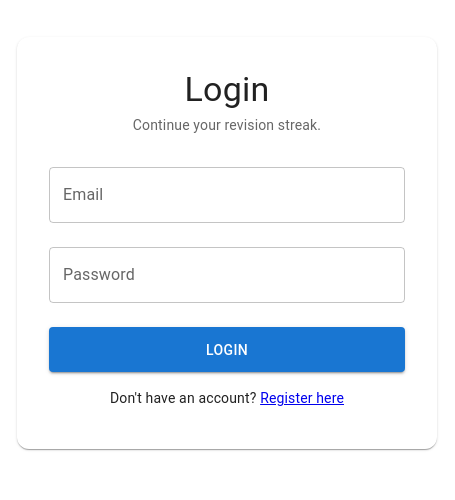
Test: Login page › shows validation error for invalid email
Type "invalid-email" into the field labelled "Email" at (227, 196), box [49,168,405,224]
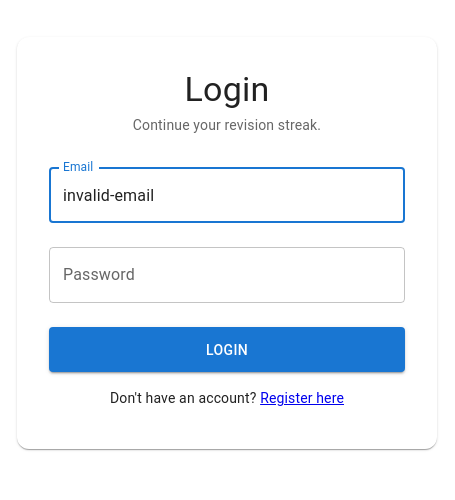
Type "password123" into the password field labelled "Password" at (227, 276), box [49,248,405,304]
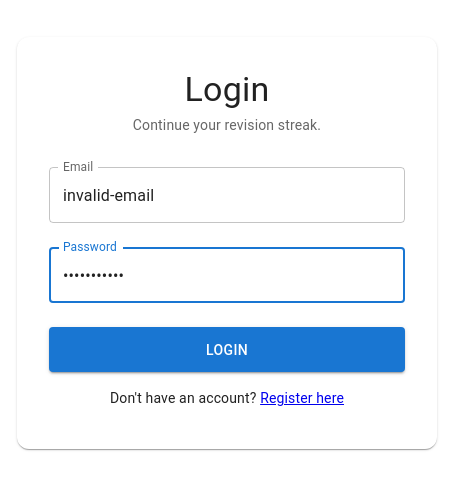
Click the button "Login" at (227, 350), box [49,328,405,372]
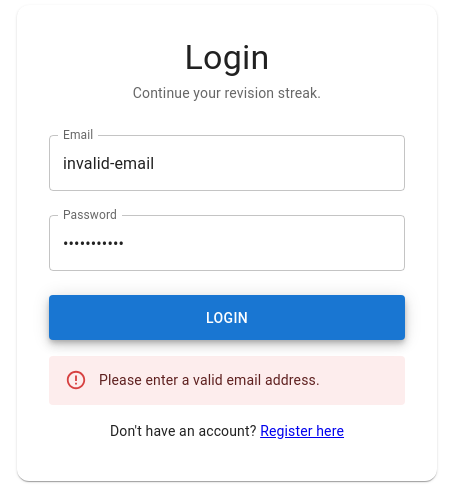
Check: the text "Please enter a valid email address." is shown, box [99,372,320,388]
